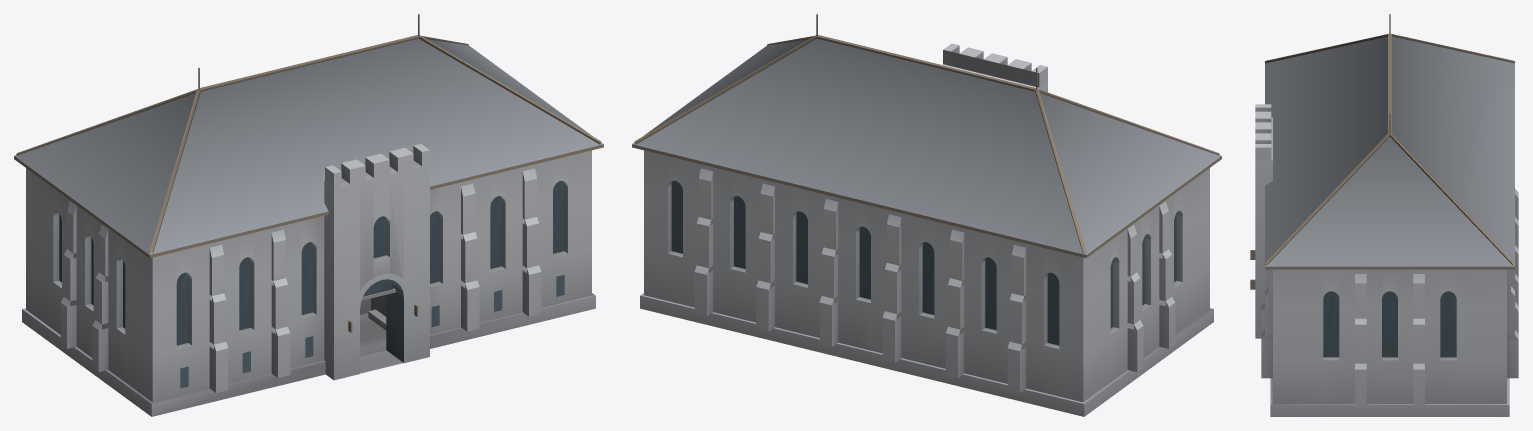
The model's file is sg_guild_hall.glb.
3 views of the same model, side by side, from view 1: azimuth 30°, elevation 25°; view 2: azimuth 150°, elevation 25°; view 3: azimuth 270°, elevation 25° (orthographic). The views are drawn at different scales.
Parts seen in each view (by area): view 1: sg_guild_hall_SG_Stone, sg_guild_hall_SG_Slate, sg_guild_hall_SG_Glass, sg_guild_hall_SG_Joinery; view 2: sg_guild_hall_SG_Stone, sg_guild_hall_SG_Slate, sg_guild_hall_SG_Glass, sg_guild_hall_SG_Joinery; view 3: sg_guild_hall_SG_Slate, sg_guild_hall_SG_Stone, sg_guild_hall_SG_Joinery, sg_guild_hall_SG_Glass.
Part boxes in pixels (x1,y1,x2,y2): sg_guild_hall_SG_Stone: (22, 144, 595, 416); sg_guild_hall_SG_Slate: (14, 38, 603, 254); sg_guild_hall_SG_Glass: (59, 181, 564, 388); sg_guild_hall_SG_Joinery: (14, 14, 603, 332); sg_guild_hall_SG_Stone: (640, 43, 1213, 416); sg_guild_hall_SG_Slate: (632, 38, 1221, 254); sg_guild_hall_SG_Glass: (671, 181, 1176, 345); sg_guild_hall_SG_Joinery: (632, 14, 1221, 258); sg_guild_hall_SG_Slate: (1265, 36, 1514, 266); sg_guild_hall_SG_Stone: (1255, 104, 1518, 416); sg_guild_hall_SG_Joinery: (1250, 14, 1515, 289); sg_guild_hall_SG_Glass: (1323, 291, 1456, 357).
Size of the model in its own units: 33.4 by 19.09 by 18.35.
